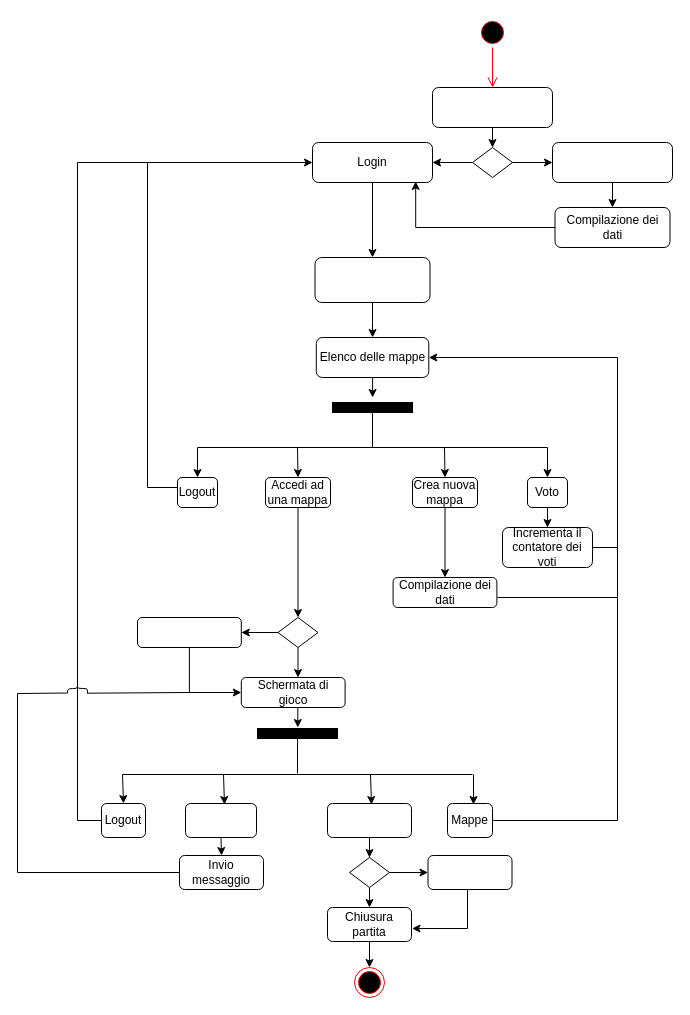
Some shapes in this 690 by 1015 pixel diagram are drawn without their labels. Each missing label, with the centre of its shape:
"Continuazione partita" belongs at (469,872).
"Creazione sessione" belongs at (492,107).
"Inserimento dei dati personali" belongs at (372,279).
"Messaggi" belongs at (220,820).
"Piazzamento edificio" belongs at (369,820).
"Registrazione" belongs at (612,162).
"Scelta del ruolo" belongs at (188,632).
